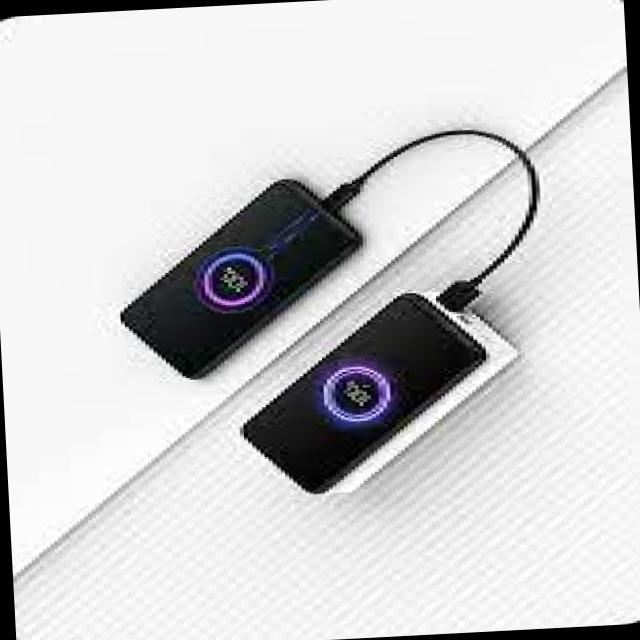power_bank: (228, 282, 528, 501)
